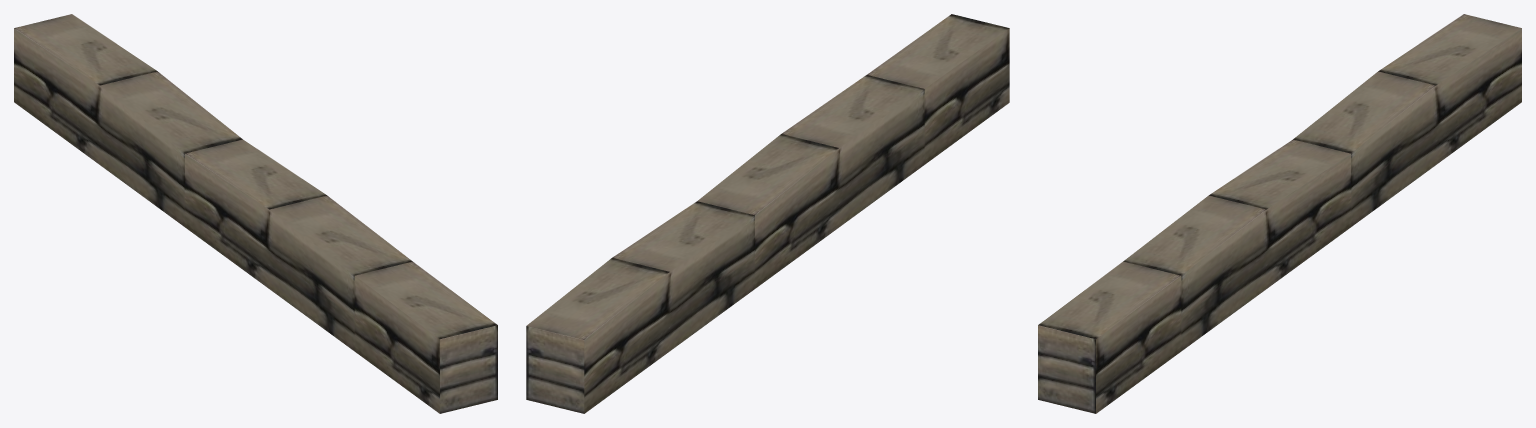
Rendered from sandbagwall_hdtex.glb.
3 views of the same model, side by side, from view 1: azimuth 30°, elevation 25°; view 2: azimuth 150°, elevation 25°; view 3: azimuth 330°, elevation 25° (orthographic).
Visible parts, largest first — view 1: sandbagwall04; view 2: sandbagwall04; view 3: sandbagwall04.
Boxes of the visible parts, x1,y1,x2,y2 form: sandbagwall04: (14,14,497,413); sandbagwall04: (526,14,1009,413); sandbagwall04: (1038,14,1521,413).
Size of the model in its own units: 0.6639 by 0.8682 by 8.44.
Materials: 1 (1 with a texture image).
